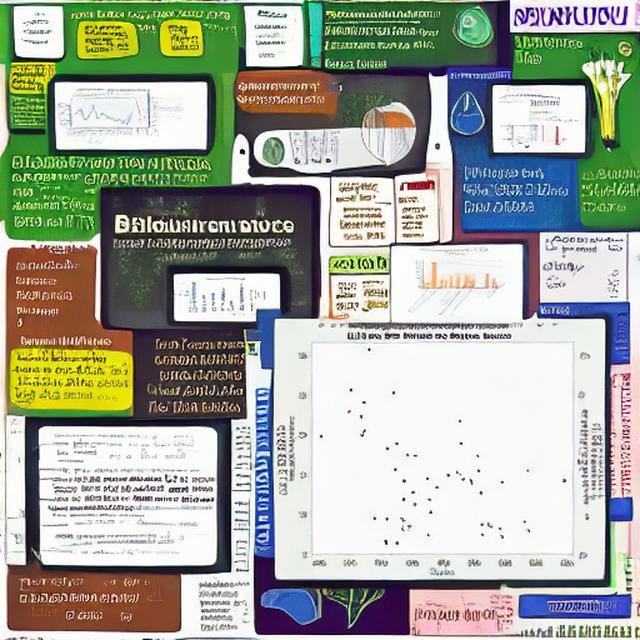Graph: (288, 331, 577, 576), (413, 248, 501, 322), (57, 94, 136, 148), (178, 276, 248, 317)
